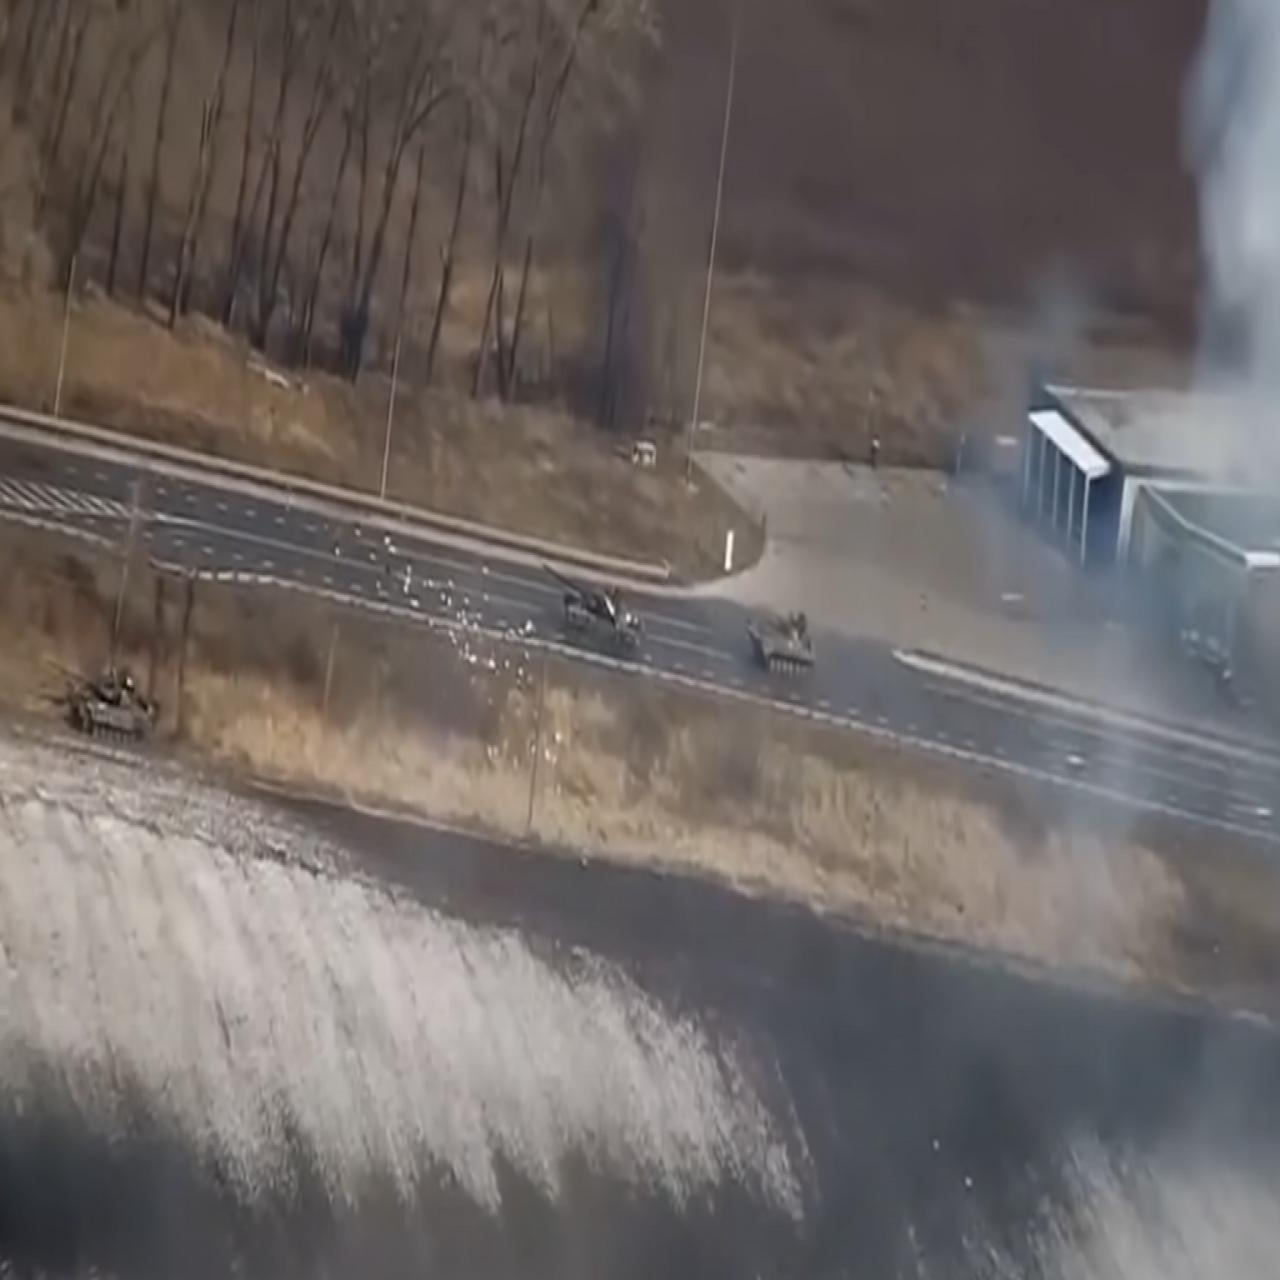MIL_Veh: (533, 554, 653, 658), (43, 646, 151, 748), (737, 600, 818, 688)
